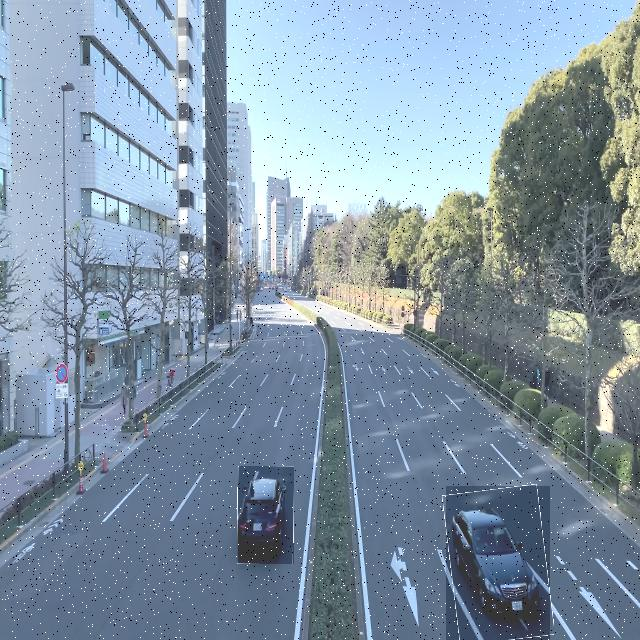Car: (446, 486, 550, 640), (238, 466, 294, 564)
